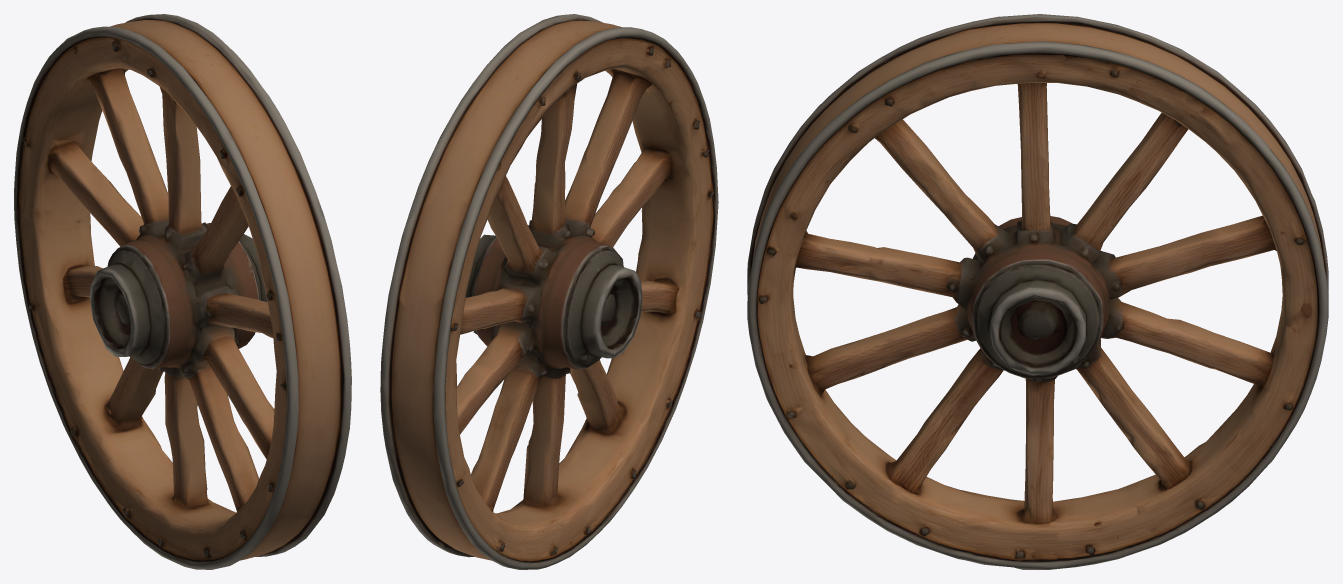
Rendered from koleso_derevo.glb.
The picture shows the model from 3 angles, left to right: view 1: azimuth 30°, elevation 25°; view 2: azimuth 150°, elevation 25°; view 3: azimuth 270°, elevation 25°; orthographic projection. The views are drawn at different scales.
Parts seen in each view (by area): view 1: tripo_node_41dbf019-eb5b-4bad-9e51-0bb29bb84aed; view 2: tripo_node_41dbf019-eb5b-4bad-9e51-0bb29bb84aed; view 3: tripo_node_41dbf019-eb5b-4bad-9e51-0bb29bb84aed.
Part boxes in pixels (x1=…): tripo_node_41dbf019-eb5b-4bad-9e51-0bb29bb84aed: x1=14, y1=14, x2=351, y2=569; tripo_node_41dbf019-eb5b-4bad-9e51-0bb29bb84aed: x1=380, y1=14, x2=718, y2=569; tripo_node_41dbf019-eb5b-4bad-9e51-0bb29bb84aed: x1=747, y1=14, x2=1328, y2=569.
Size of the model in its own units: 0.2954 by 0.9988 by 1.
1 material, 1 textured.
